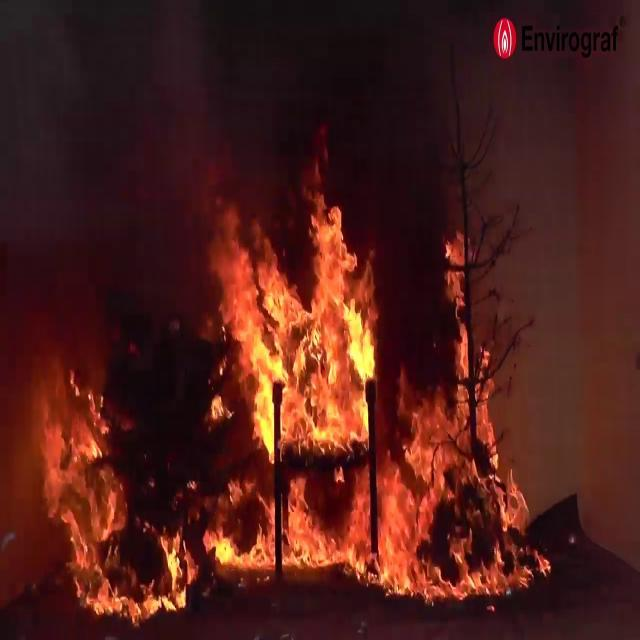Fire: (190, 148, 396, 582), (391, 227, 558, 614), (10, 396, 189, 621)
Smoke: (0, 1, 245, 364), (298, 0, 520, 228)
